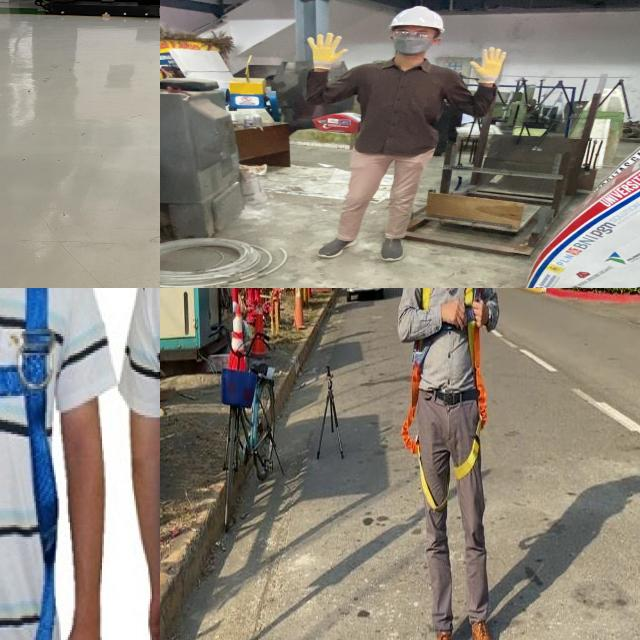Harness: (0, 288, 50, 640), (401, 358, 448, 511), (454, 327, 488, 480)
face_mask: (391, 29, 436, 54)
glasses: (388, 28, 438, 40)
hand_glove: (301, 31, 350, 65), (468, 45, 514, 79)
head_helmet: (385, 4, 447, 30)
person: (296, 5, 512, 266)
shoes: (311, 232, 360, 260), (372, 233, 407, 263)
